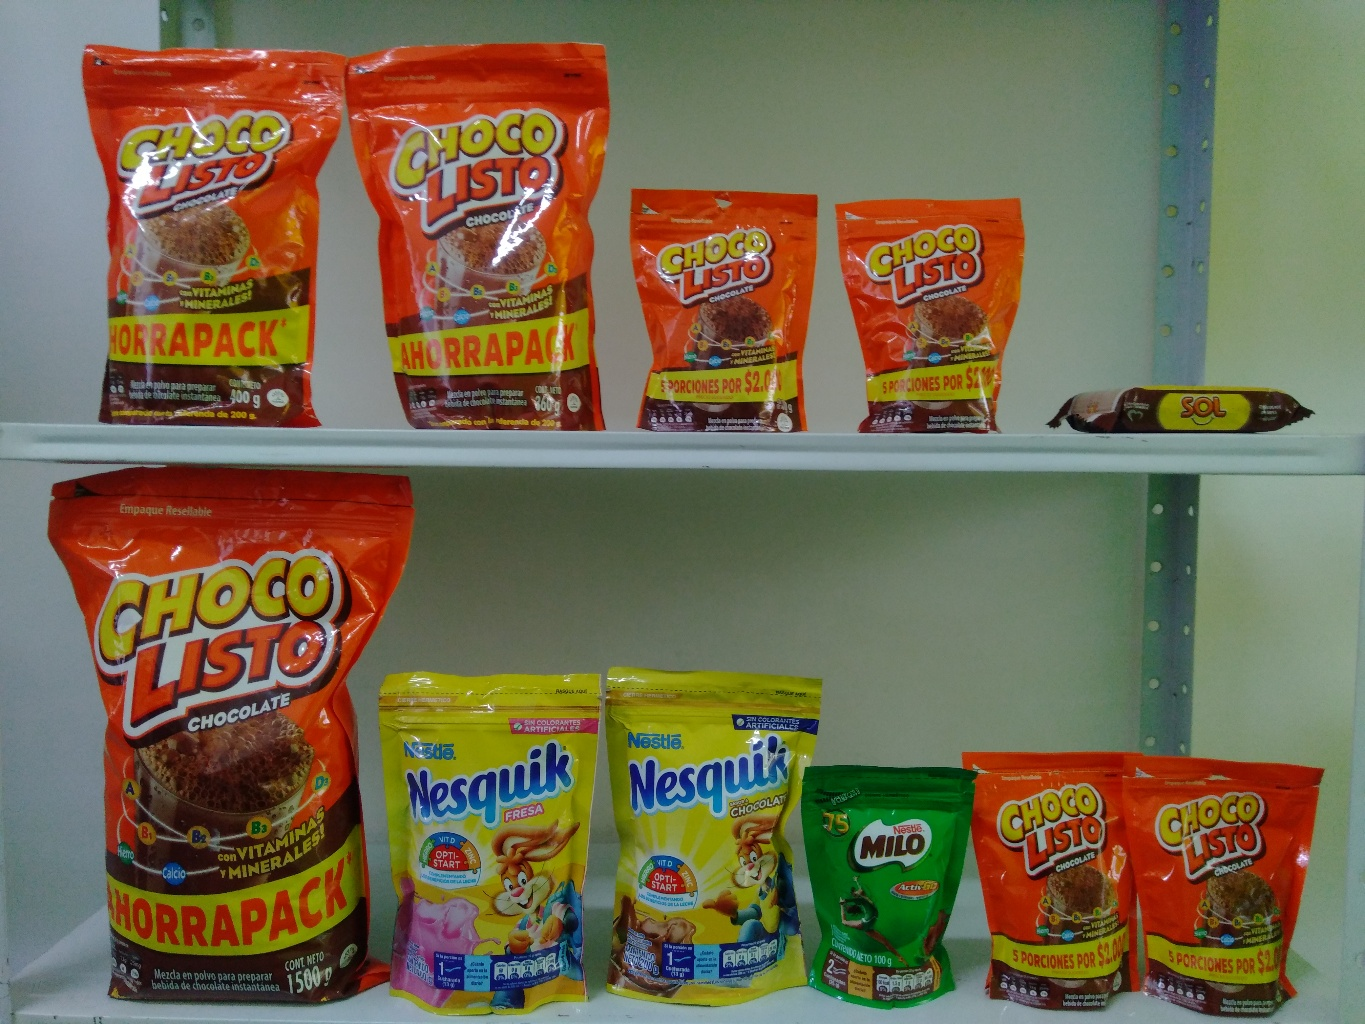COL0170103DYP1,500: (41, 463, 400, 1019)
COL0170103DYP10000: (631, 174, 828, 438)
COL0170103DYP36000: (355, 32, 621, 444)
COL0170103DYP40000: (81, 34, 352, 432)
COL0170203DYP10000: (793, 751, 975, 1020)
COL0170303DYP20000: (607, 667, 827, 1010)
COL0170305DYP20000: (373, 674, 605, 1015)
